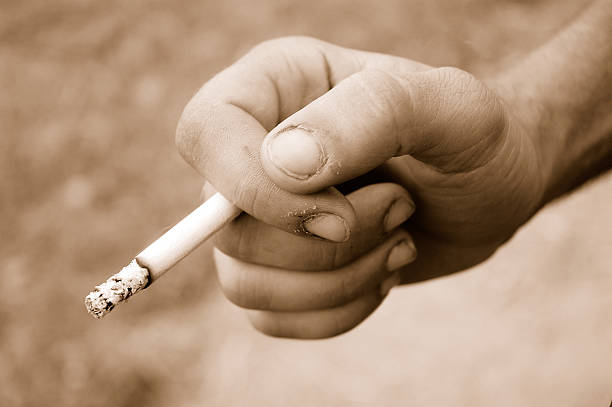cigarette: (82, 189, 238, 317)
